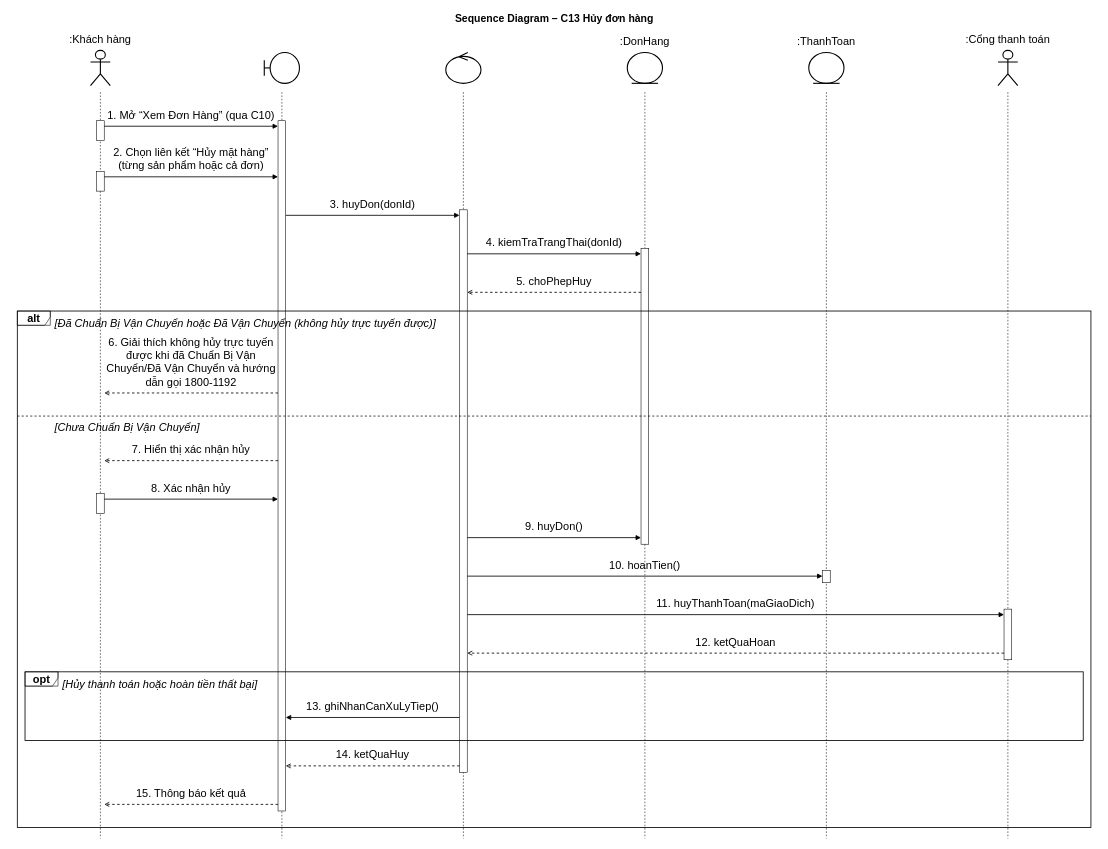
Image size: 1108x849. Some labels were removed from this diagram. The shapes that lost their labels are listed below. From the top down, each one's box as (x1, y1, x2, y2) in pixels, then its label:
(263, 52, 300, 84): :HuyDonHangPage
(445, 52, 481, 84): :HuyDonHangController
